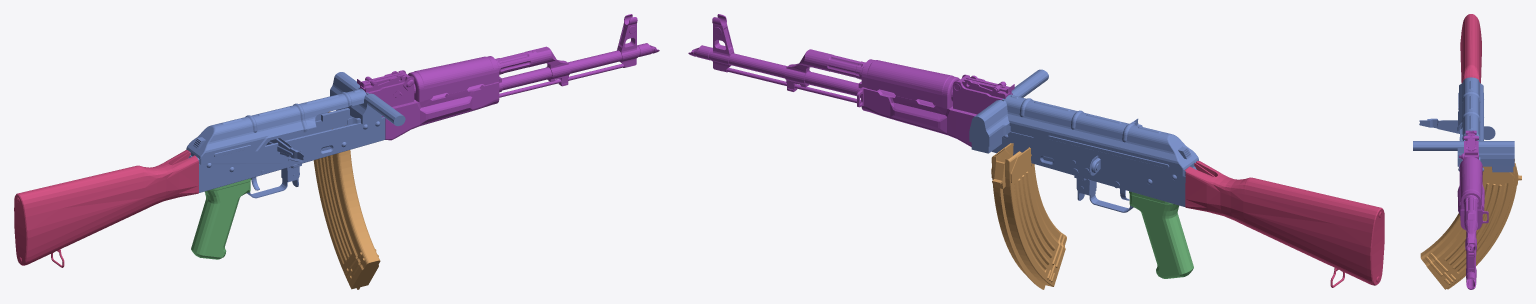
Rendered from full_21_coarse.glb.
3 renders of one model, left to right at view 1: azimuth 30°, elevation 25°; view 2: azimuth 150°, elevation 25°; view 3: azimuth 270°, elevation 25°, orthographic. The views are drawn at different scales.
Parts seen in each view (by area): view 1: world; view 2: world; view 3: world.
Part boxes in pixels (left/top/right/bottom): world: left=14, top=14, right=659, bottom=289; world: left=688, top=14, right=1384, bottom=289; world: left=1413, top=14, right=1521, bottom=289.
Size of the model in its own units: 0.9473 by 0.2752 by 0.1641.
